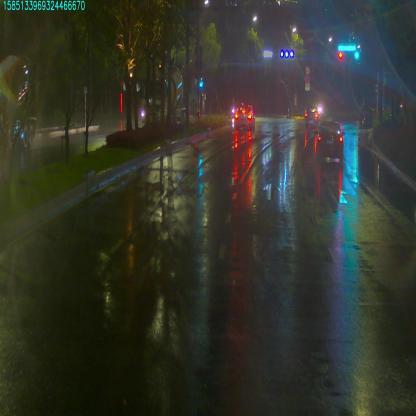traffic-light: (338, 42, 357, 52), (354, 51, 359, 60), (338, 51, 342, 59)
